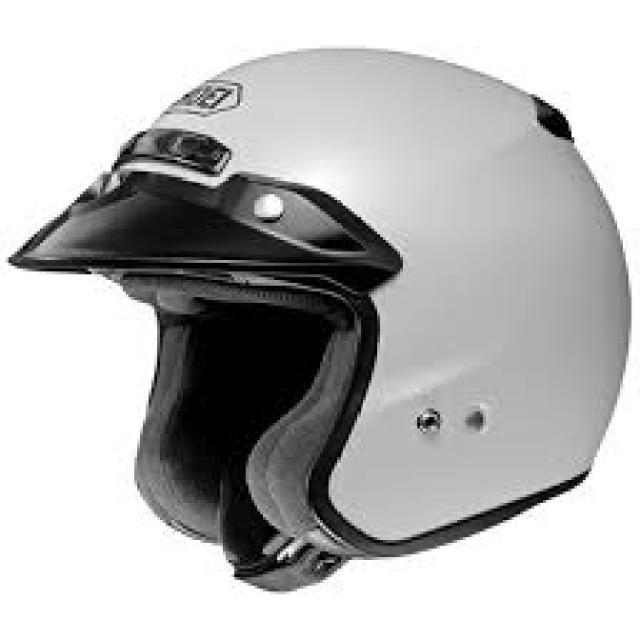helmet on: (11, 50, 629, 590)
